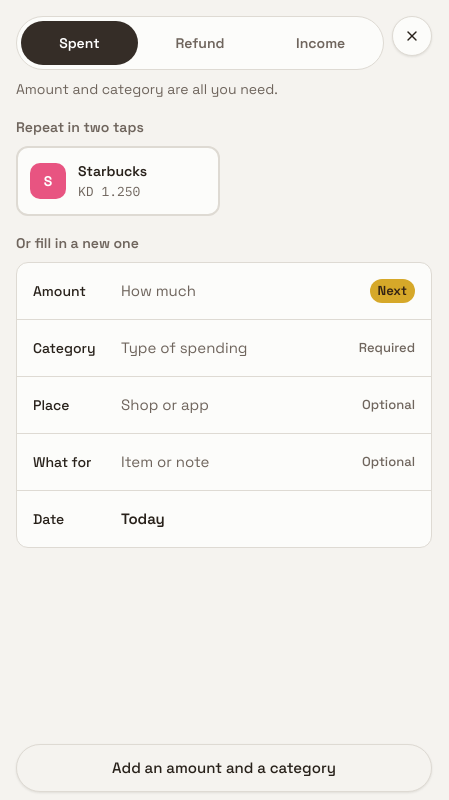
Test: /log Spent · Refund · Income (MOB-R116 D1) › the switch has three segments; Refund keeps the Spent screen, with its hidden title and its line
Expected: the button "S Starbucks KD 1.250" is shown, [16, 146, 220, 216]
Click the button "Refund" at (200, 43), box [142, 21, 258, 65]
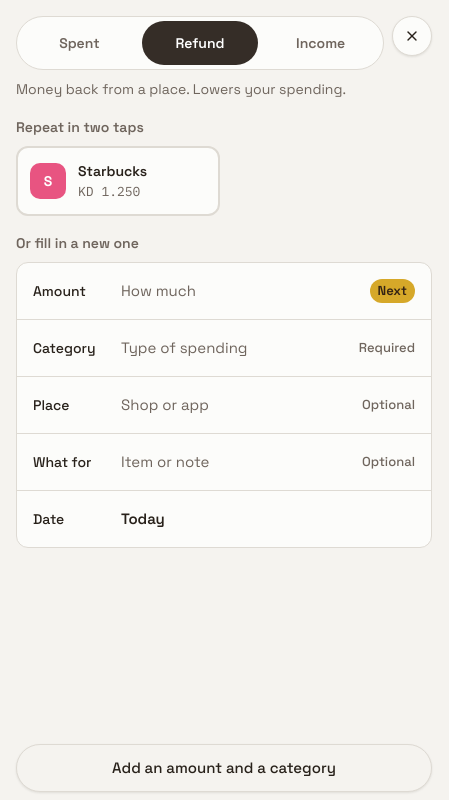
Expected: the button "S Starbucks KD 1.250" is shown, [16, 146, 220, 216]
Expected: the text "Money back from a place. Lowers your spending." is shown, [16, 78, 384, 100]
